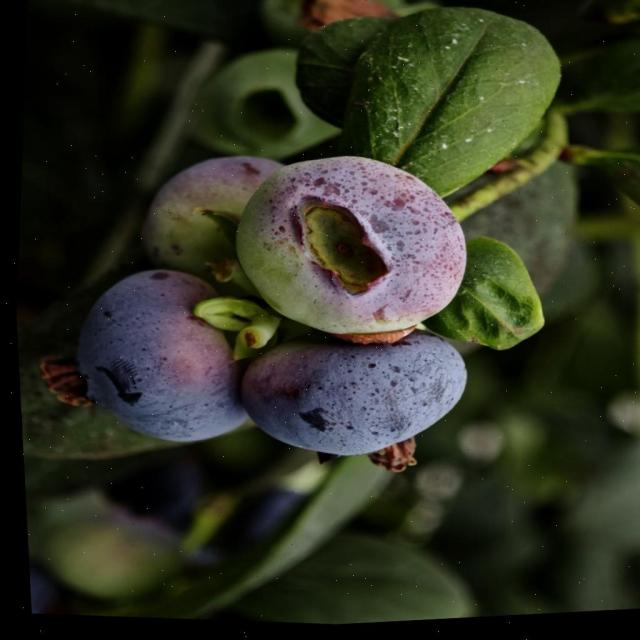Semi-RipeBlueBerry: (226, 147, 471, 350), (31, 264, 241, 466), (232, 331, 468, 476)
